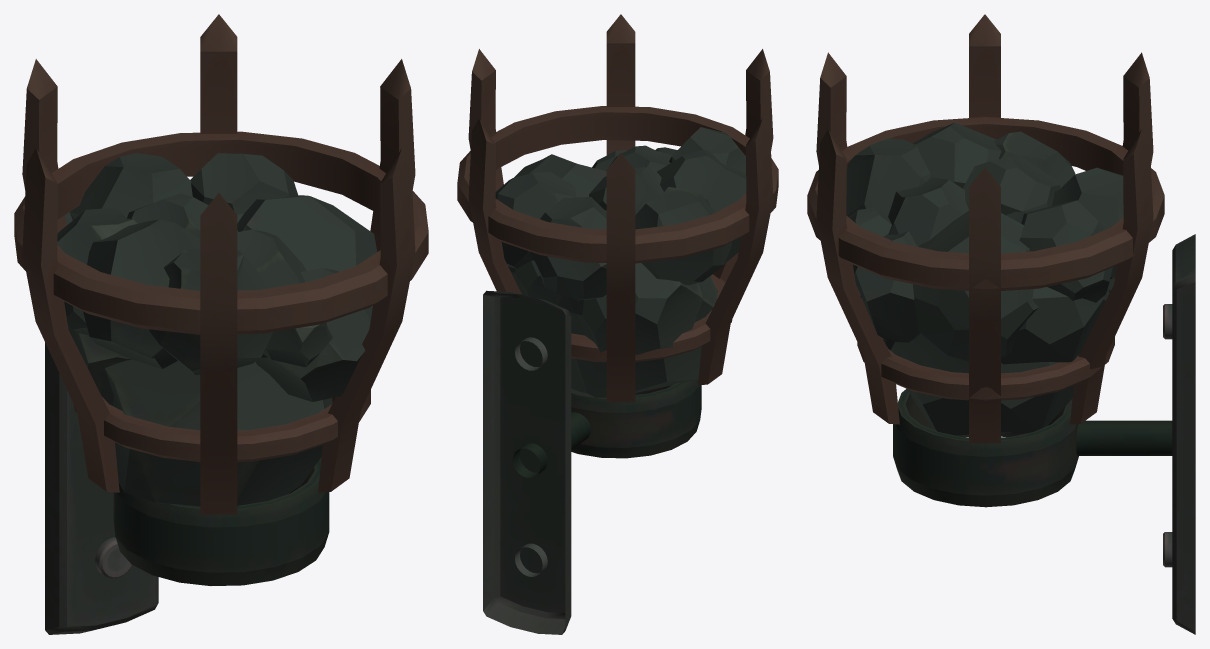
Rendered from Wall-AttachedTorch.fbx.
3 renders of one model, left to right at view 1: azimuth 30°, elevation 25°; view 2: azimuth 150°, elevation 25°; view 3: azimuth 270°, elevation 25°, orthographic. The views are drawn at different scales.
Parts seen in each view (by area): view 1: torch10, torch11, torch26, Wall_AttachedTorch, torch8, torch7, torch9, torch15, torch3, torch16, torch12, torch20 (+11 smaller); view 2: Wall_AttachedTorch, torch10, torch11, torch4, torch7, torch17, torch18, torch20, torch6, torch26, torch15, torch19 (+10 smaller); view 3: torch10, torch11, Wall_AttachedTorch, torch5, torch9, torch6, torch16, torch26, torch3, torch22, torch1, torch19 (+11 smaller).
Boxes of the visible parts, x1,y1,x2,y2 form: torch10: [14, 131, 428, 334]; torch11: [113, 457, 329, 585]; torch26: [105, 359, 332, 506]; Wall_AttachedTorch: [45, 212, 158, 634]; torch8: [200, 193, 237, 514]; torch7: [22, 148, 119, 492]; torch9: [318, 148, 415, 492]; torch15: [83, 219, 200, 368]; torch3: [73, 390, 370, 461]; torch16: [237, 195, 377, 271]; torch12: [256, 268, 372, 401]; torch20: [70, 153, 192, 219]; Wall_AttachedTorch: [483, 290, 571, 634]; torch10: [457, 106, 778, 263]; torch11: [571, 380, 701, 458]; torch4: [606, 153, 635, 402]; torch7: [698, 118, 773, 385]; torch17: [558, 263, 702, 354]; torch18: [635, 187, 732, 284]; torch20: [530, 197, 606, 300]; torch6: [468, 118, 521, 294]; torch26: [571, 276, 717, 397]; torch15: [657, 149, 746, 262]; torch19: [495, 171, 576, 268]; torch10: [807, 117, 1164, 290]; torch11: [893, 389, 1078, 507]; Wall_AttachedTorch: [1172, 234, 1195, 634]; torch5: [969, 167, 1000, 443]; torch9: [816, 129, 899, 424]; torch6: [1070, 129, 1153, 424]; torch16: [913, 210, 1038, 361]; torch26: [883, 333, 1073, 435]; torch3: [857, 337, 1114, 400]; torch22: [1001, 210, 1109, 364]; torch1: [846, 138, 930, 216]; torch19: [1019, 200, 1112, 302].
Size of the model in its own units: 360 by 566 by 377.
